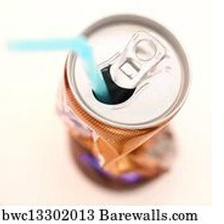can: (50, 11, 198, 193)
drinking_straw: (5, 31, 116, 107)
